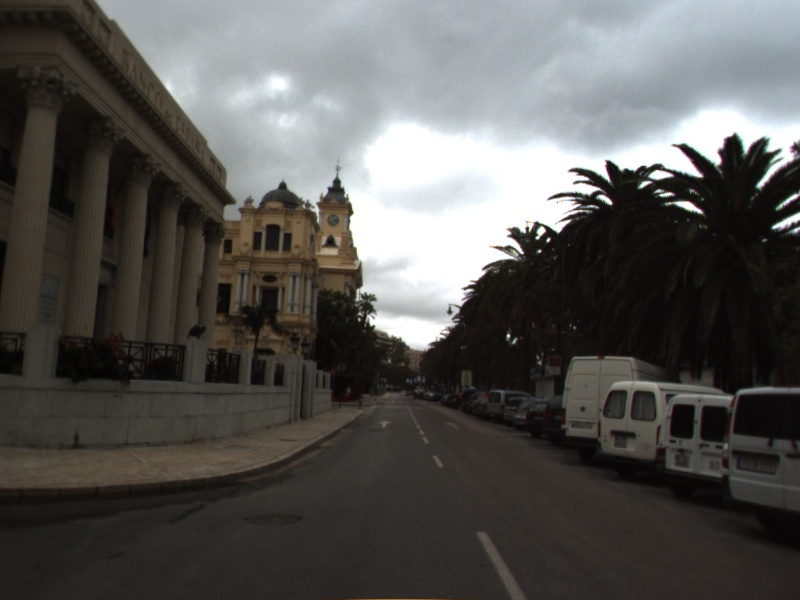STRAIGHT: (444, 420, 461, 431), (376, 419, 394, 429)
